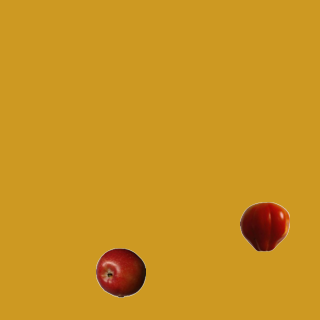Apple Braeburn: (95, 247, 145, 297)
Tomato 1: (239, 201, 289, 251)
